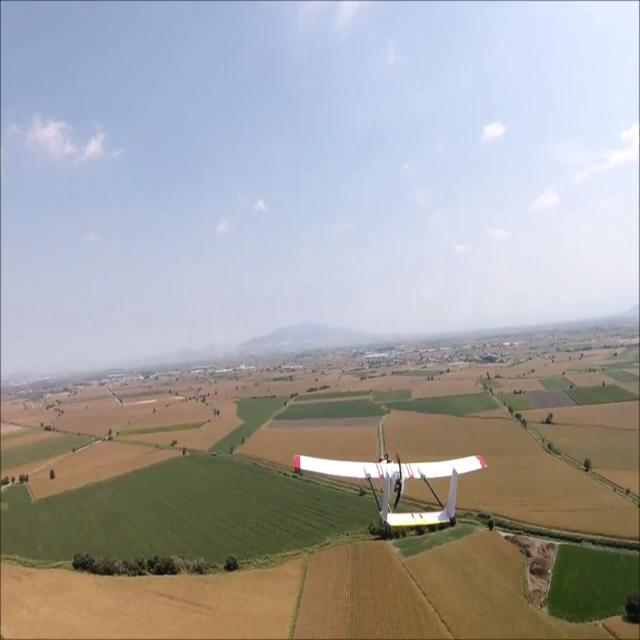iha: (292, 487, 484, 492)
